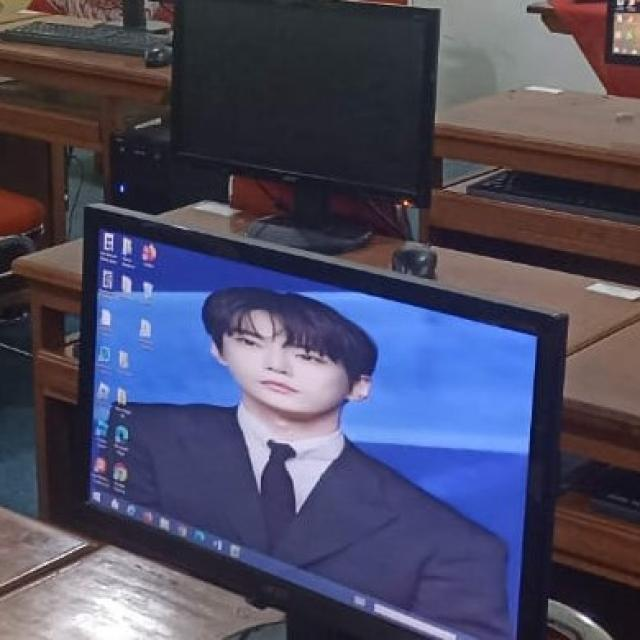onscreen: (70, 216, 554, 637), (170, 5, 439, 206)
